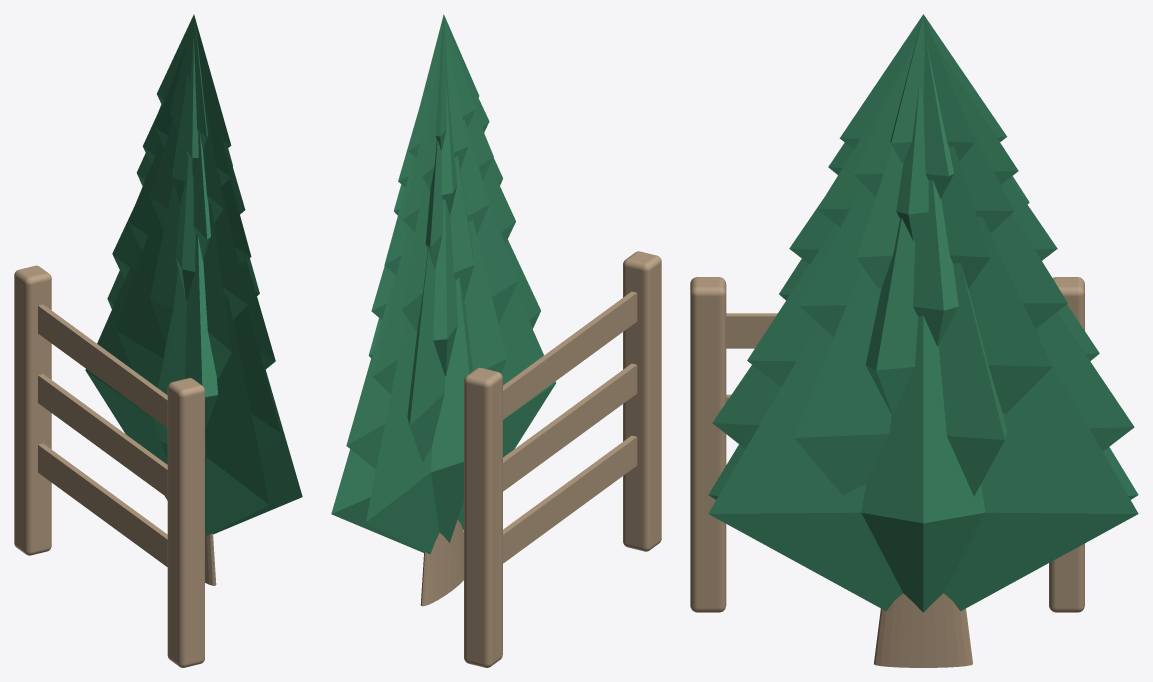
Rendered from Tremendous Snicket (2).glb.
3 views of the same model, side by side, from view 1: azimuth 30°, elevation 25°; view 2: azimuth 150°, elevation 25°; view 3: azimuth 270°, elevation 25° (orthographic). The views are drawn at different scales.
Parts seen in each view (by area): view 1: Mesh_Mesh_head_geo.001_lambert2SG.001; view 2: Mesh_Mesh_head_geo.001_lambert2SG.001; view 3: Mesh_Mesh_head_geo.001_lambert2SG.001.
Boxes of the visible parts, x1,y1,x2,y2 form: Mesh_Mesh_head_geo.001_lambert2SG.001: (14, 14, 302, 667); Mesh_Mesh_head_geo.001_lambert2SG.001: (331, 14, 661, 667); Mesh_Mesh_head_geo.001_lambert2SG.001: (690, 14, 1138, 667).
Bounding box in the file's own units: 0.011 × 0.04 × 0.025.
